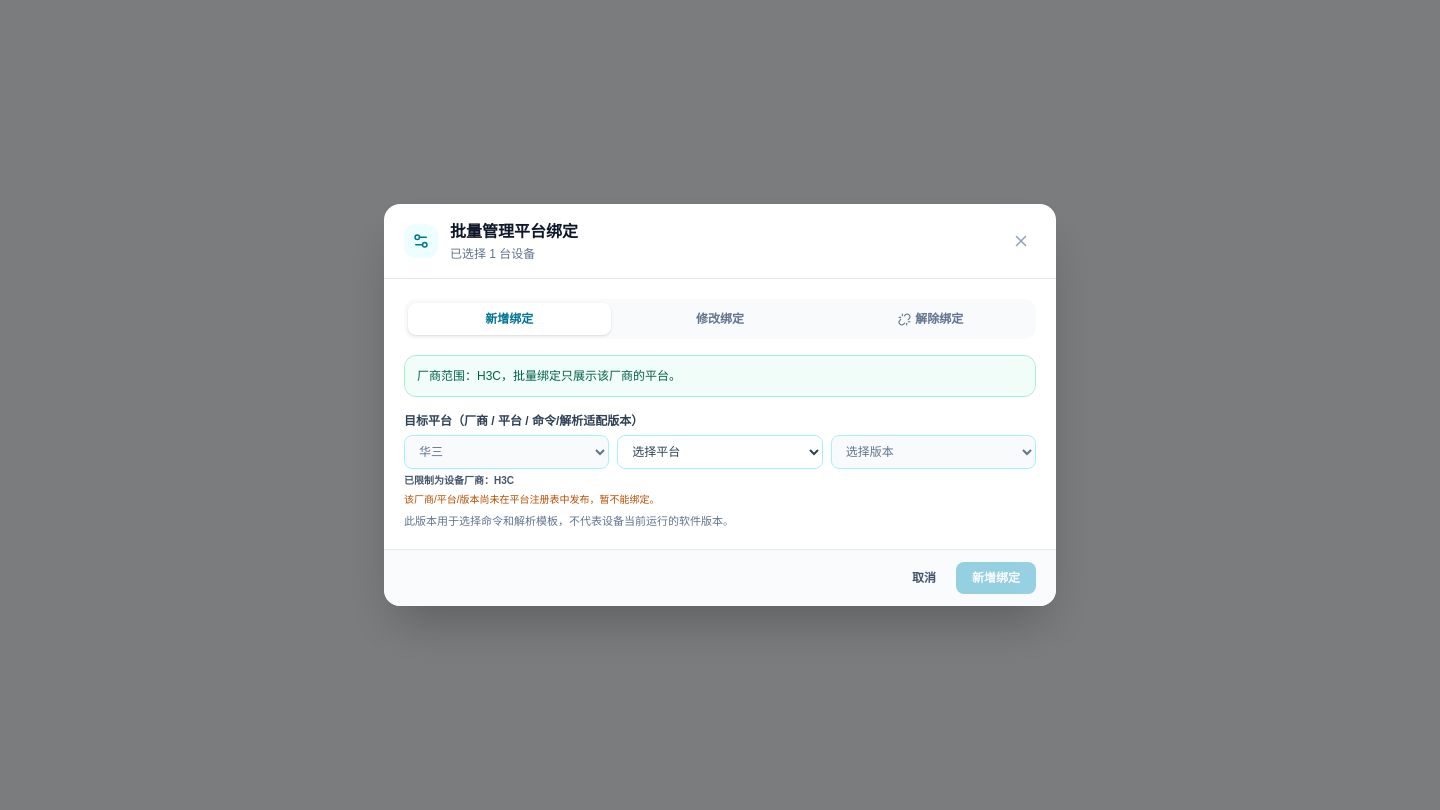
BatchPlatformBindingModal version guard › enables an explicit administrator override after confirmation
Select "华三" in the dropdown named "平台厂商" at (507,452), box [404,435,609,469]
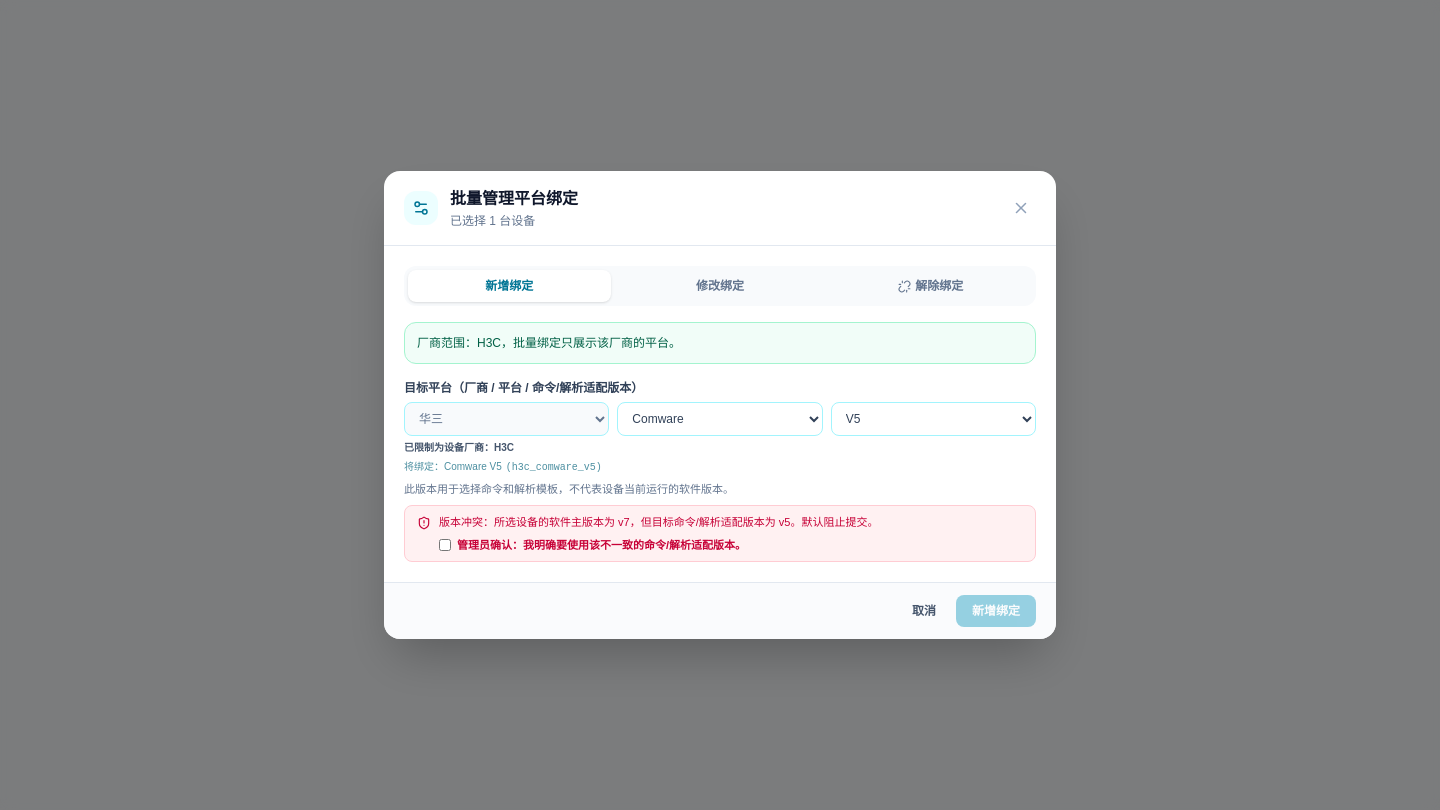
Select "Comware" in the dropdown named "平台类型" at (720,419), box [617,402,823,436]
Select "V5" in the dropdown named "平台版本" at (933,419), box [831,402,1036,436]
Click the checkbox at (445,545), box [439,539,451,551]
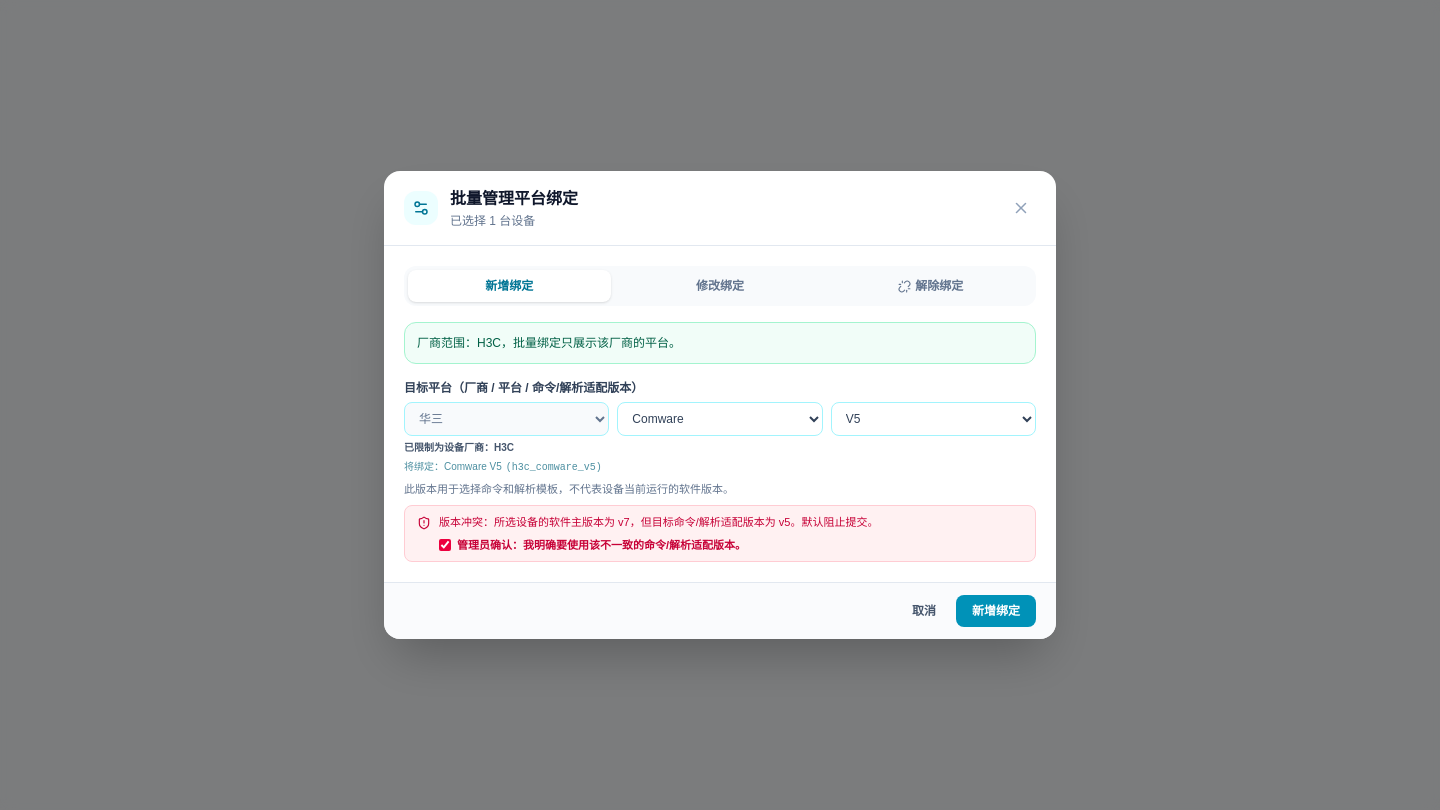
Expected: the 2nd button "新增绑定" is enabled, [956,595,1036,627]
